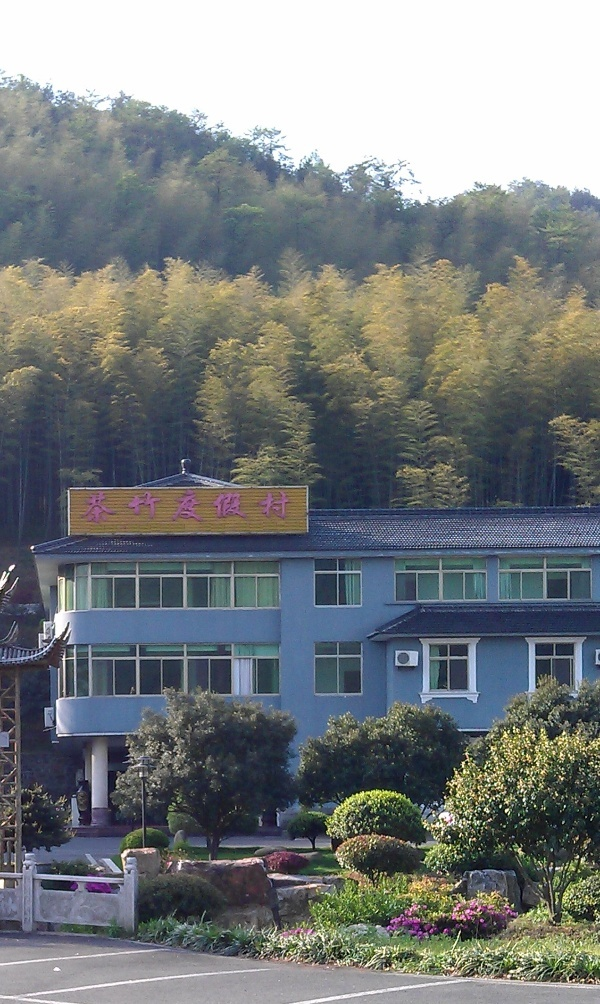text: (81, 489, 96, 526), (97, 489, 112, 526), (113, 489, 128, 526), (129, 489, 144, 526), (145, 489, 160, 526), (161, 489, 176, 526), (177, 489, 192, 526), (193, 489, 208, 526), (209, 489, 224, 526), (225, 489, 240, 526), (241, 489, 256, 526), (257, 489, 272, 526), (273, 489, 288, 526), (289, 489, 291, 526), (79, 489, 80, 526)
